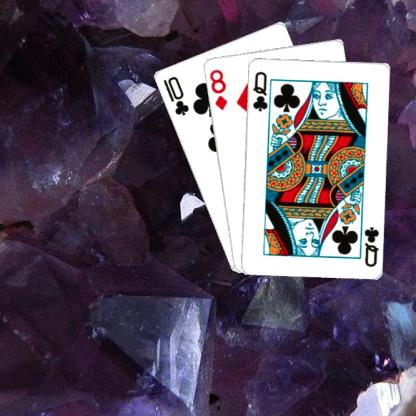10C: (160, 73, 190, 117)
8D: (207, 66, 228, 111)
QC: (249, 69, 269, 112), (361, 224, 380, 268)
